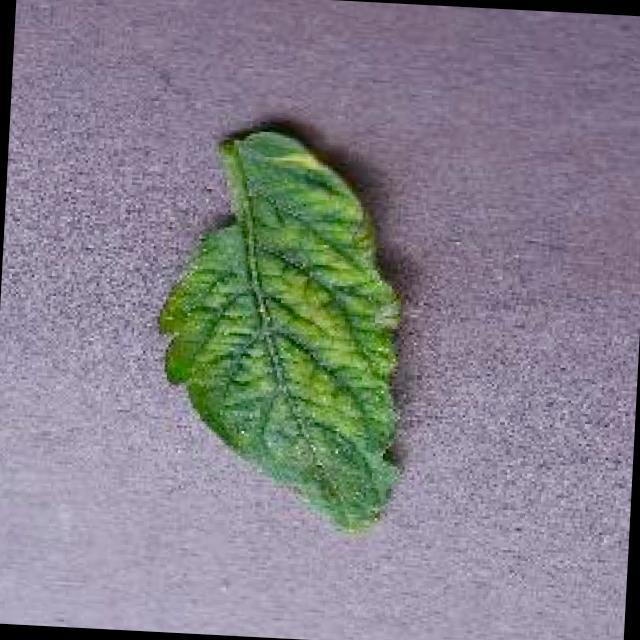Tomato mosaic virus leaf: (149, 126, 425, 538)
